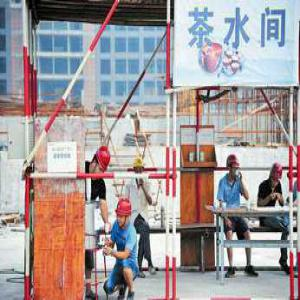red: (94, 146, 112, 178), (117, 198, 132, 228), (227, 155, 241, 178), (271, 163, 283, 189)
yellow: (134, 158, 145, 181)
